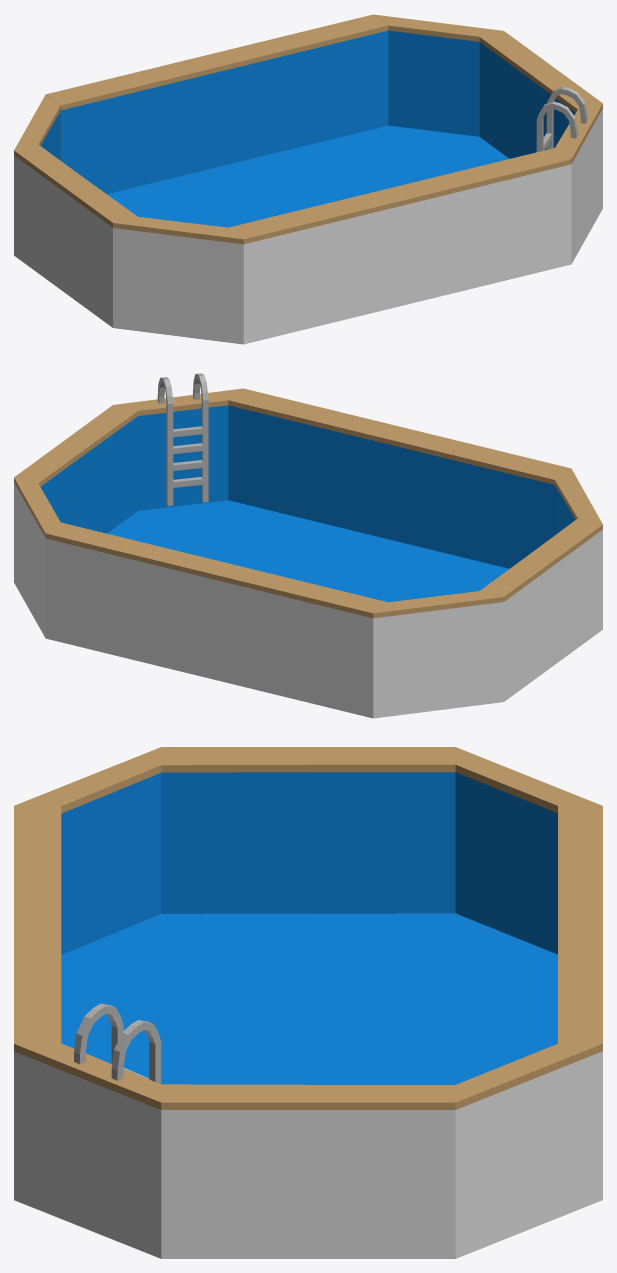
File: pool.glb
The picture shows the model from 3 angles, top to bottom: view 1: azimuth 30°, elevation 25°; view 2: azimuth 150°, elevation 25°; view 3: azimuth 270°, elevation 25°; orthographic projection. The views are drawn at different scales.
Visible parts, largest first — view 1: Cube, Cube.002; view 2: Cube, Cube.002; view 3: Cube, Cube.002.
Boxes of the visible parts, x1,y1,x2,y2 form: Cube: (14, 14, 602, 344); Cube.002: (536, 86, 587, 151); Cube: (14, 388, 602, 718); Cube.002: (157, 373, 208, 506); Cube: (14, 747, 602, 1258); Cube.002: (74, 1003, 161, 1083).
Size of the model in its own units: 20 by 5.34 by 14.
